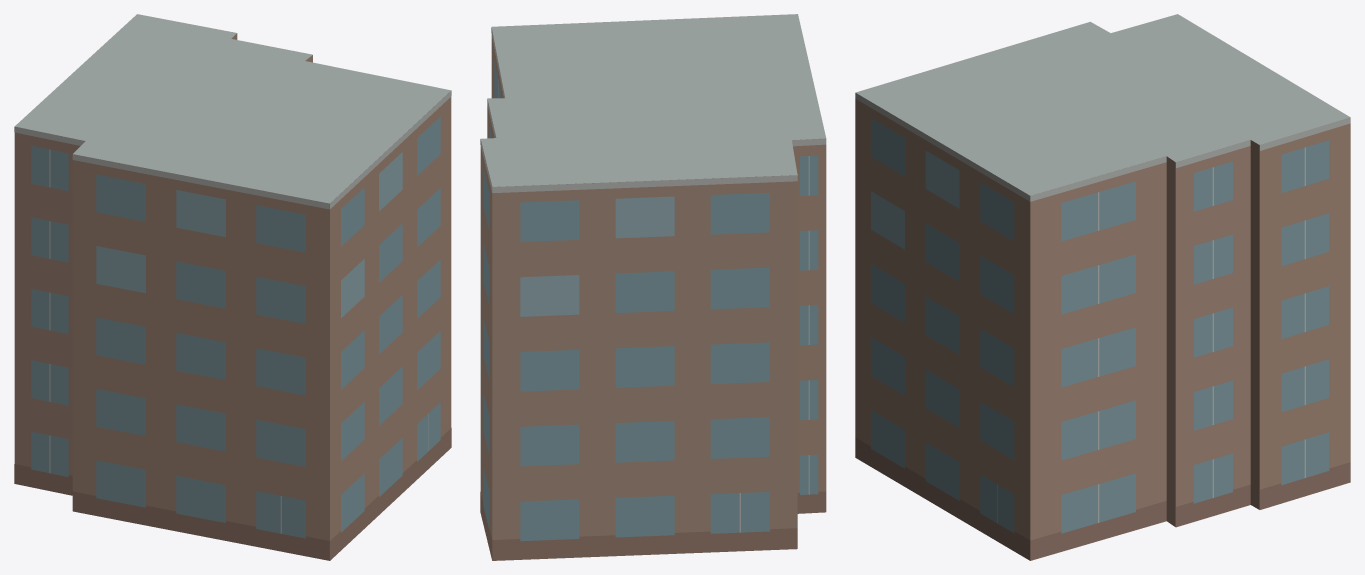
Rendered from survey-upis-32709950.glb.
3 renders of one model, left to right at view 1: azimuth 30°, elevation 25°; view 2: azimuth 150°, elevation 25°; view 3: azimuth 270°, elevation 25°, orthographic. The views are drawn at different scales.
Visible parts, largest first — view 1: survey-upis-32709950.tmp; view 2: survey-upis-32709950.tmp; view 3: survey-upis-32709950.tmp.
Boxes of the visible parts, x1,y1,x2,y2 form: survey-upis-32709950.tmp: [14, 14, 451, 560]; survey-upis-32709950.tmp: [480, 14, 826, 560]; survey-upis-32709950.tmp: [855, 14, 1350, 560].
Bounding box in the file's own units: 15.76 × 14.75 × 18.15.
